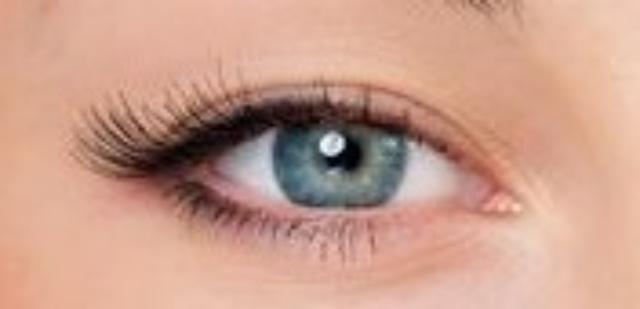eye: (274, 104, 406, 212)
